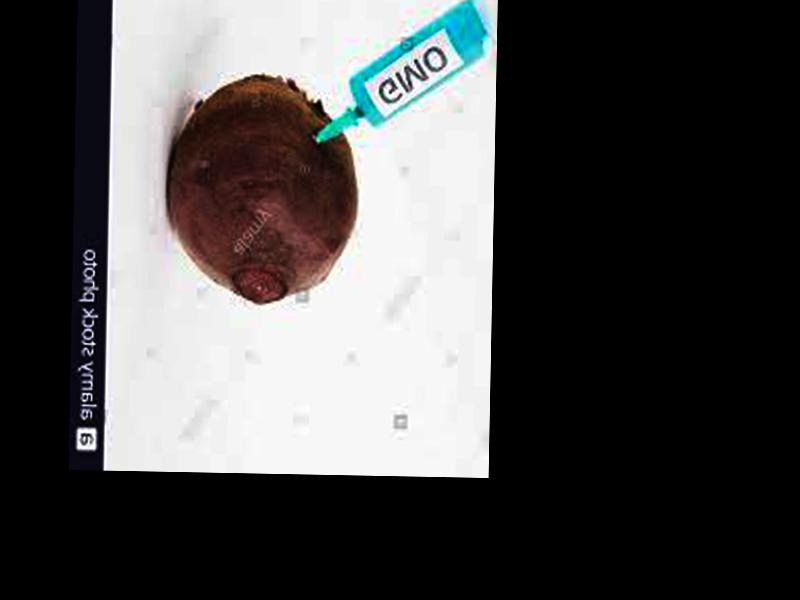Beet: (163, 77, 360, 304)
